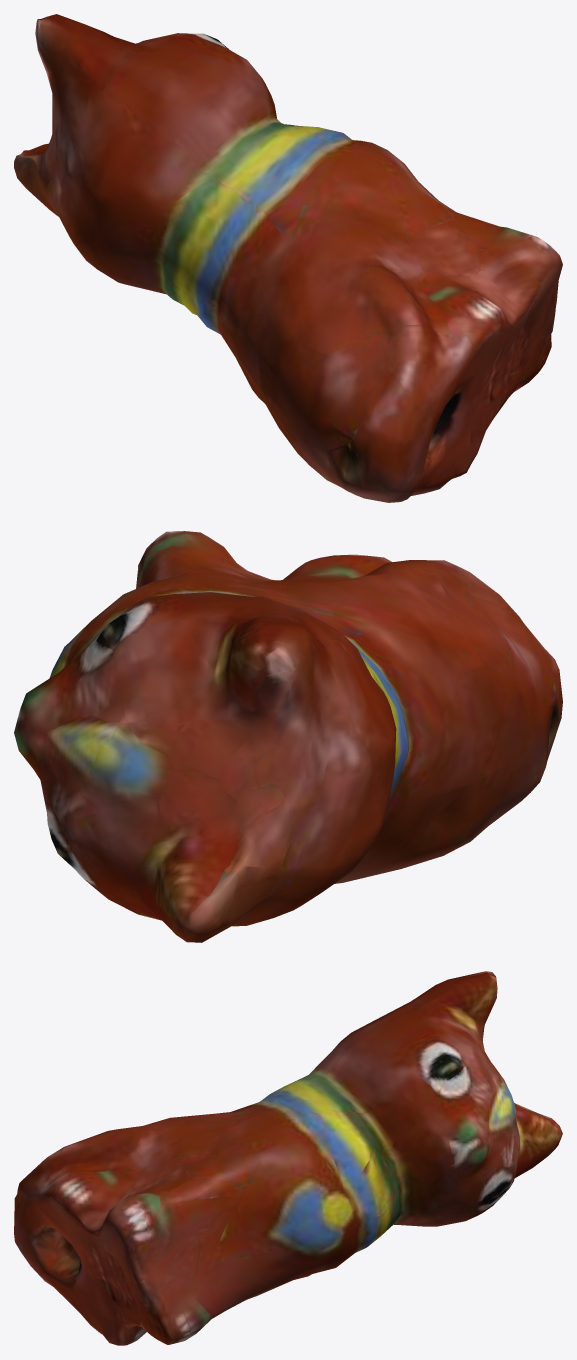
Rendered from hall.glb.
3 views of the same model, one above another, from view 1: azimuth 30°, elevation 25°; view 2: azimuth 150°, elevation 25°; view 3: azimuth 270°, elevation 25° (orthographic). The views are drawn at different scales.
Size of the model in its own units: 0.3969 by 0.3904 by 0.6599.
Materials: 1 (1 with a texture image).
